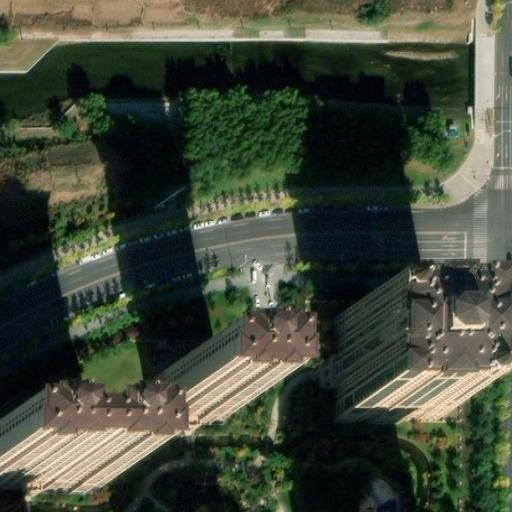building: (334, 303, 440, 411), (0, 432, 110, 487), (163, 365, 242, 417), (103, 95, 184, 126)
